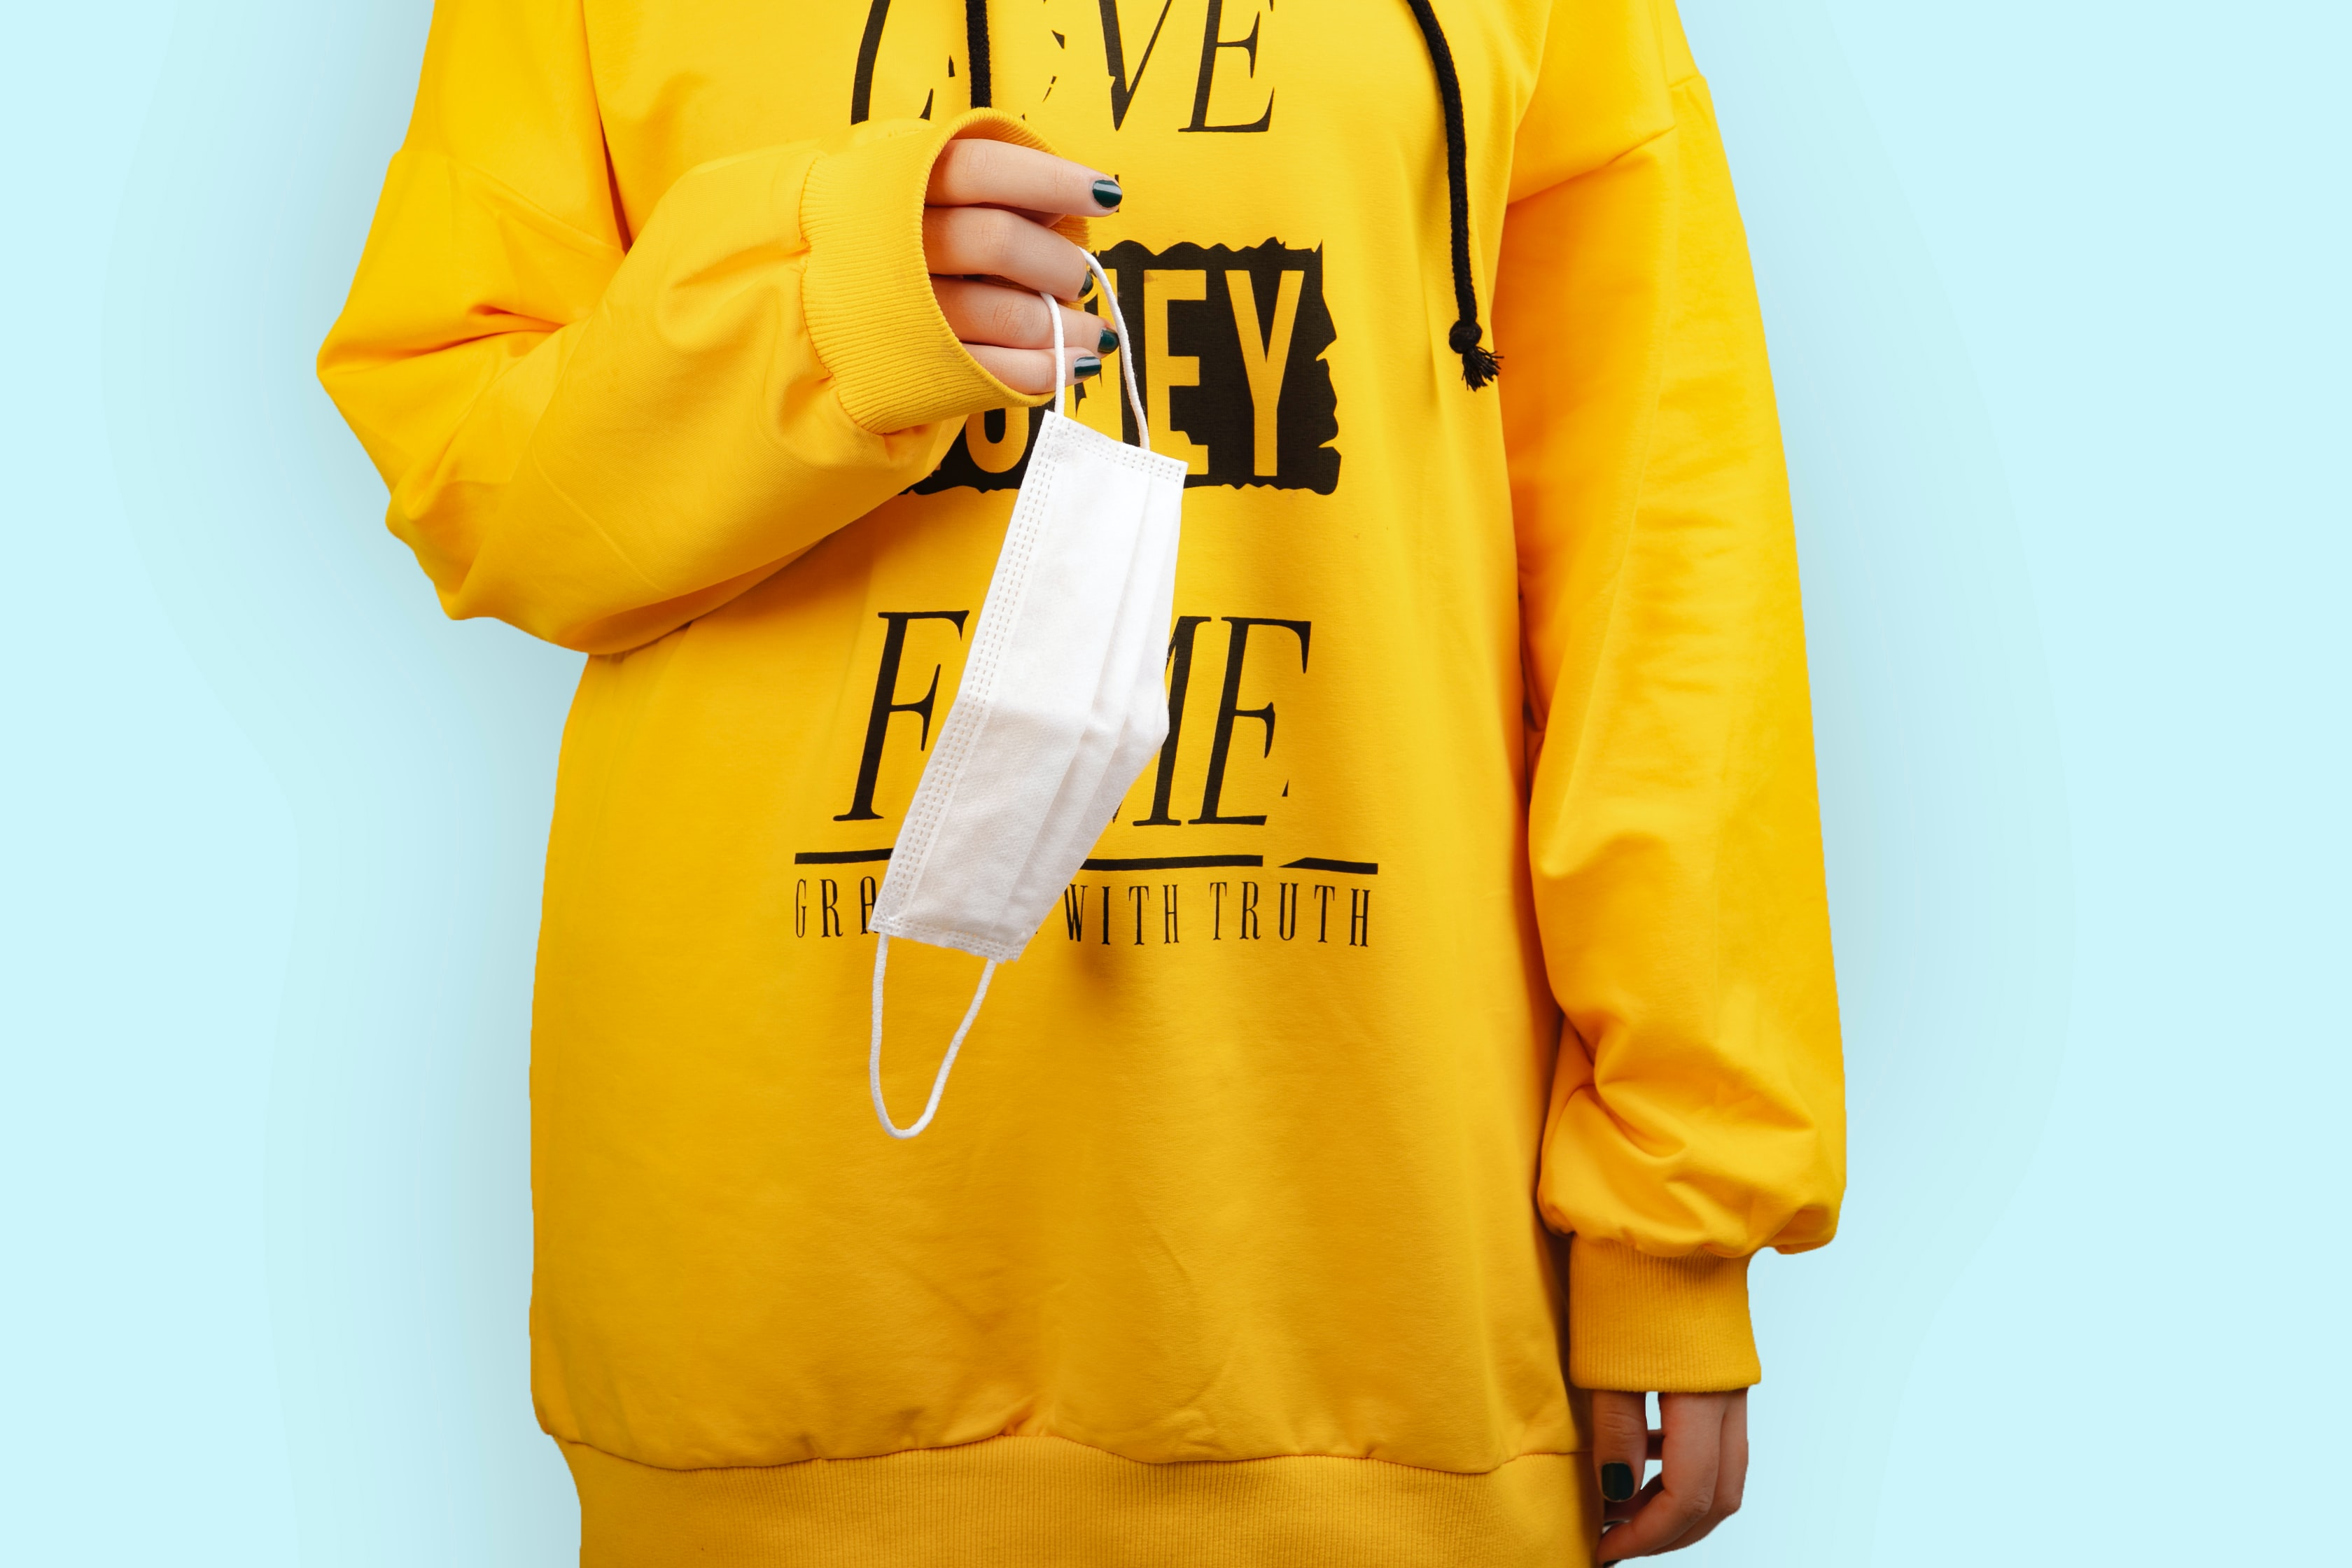mask: (850, 231, 1193, 1165)
